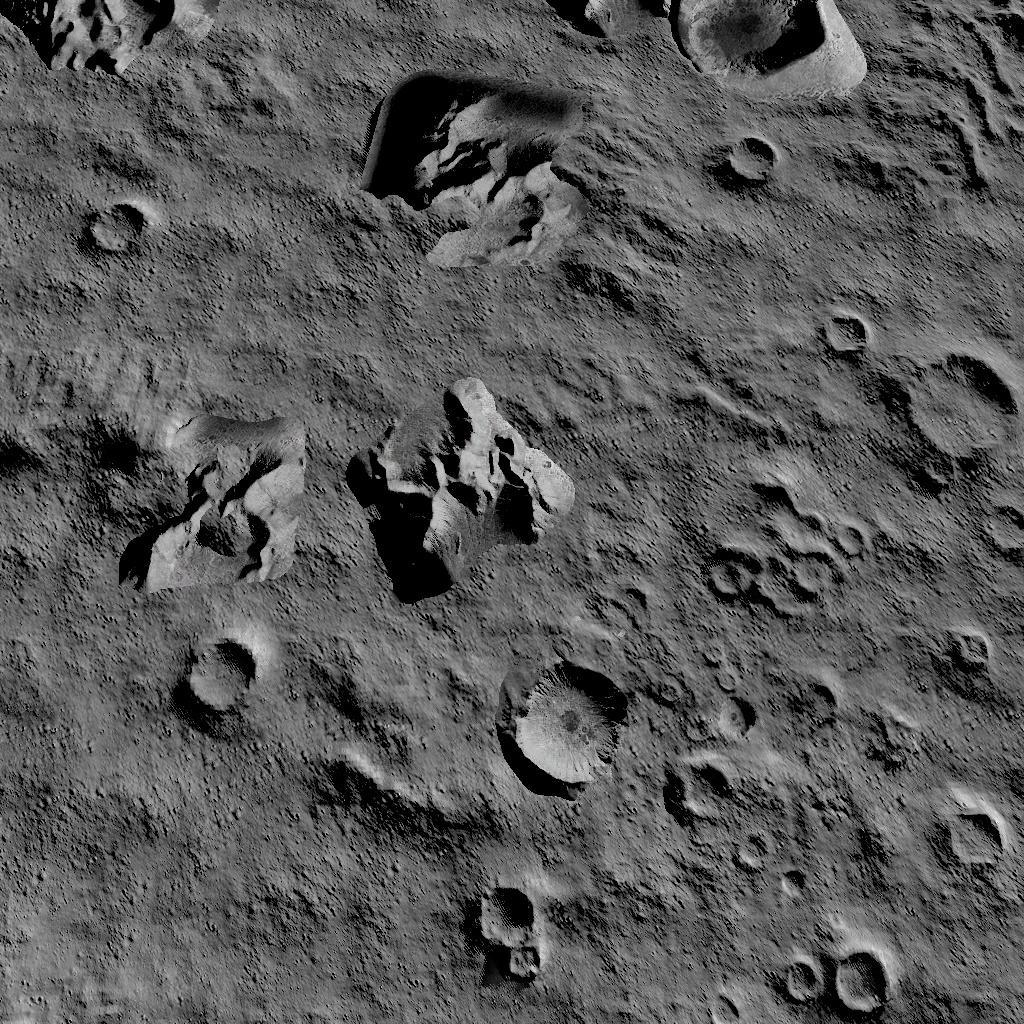Boulders: (0, 348, 304, 616), (336, 374, 582, 614), (355, 76, 601, 290), (293, 652, 491, 858), (0, 0, 243, 106), (541, 0, 670, 56)
Crater: (685, 460, 878, 634), (662, 758, 826, 911), (676, 0, 866, 123), (879, 346, 1024, 494), (502, 658, 640, 808), (769, 934, 910, 1024), (165, 630, 270, 740), (466, 880, 562, 998), (934, 800, 1016, 892), (81, 200, 158, 274), (967, 504, 1024, 580), (714, 142, 786, 200), (804, 310, 872, 370), (790, 676, 848, 735), (941, 626, 996, 680)
Plan surface: (13, 630, 147, 1020), (159, 872, 454, 1022)
